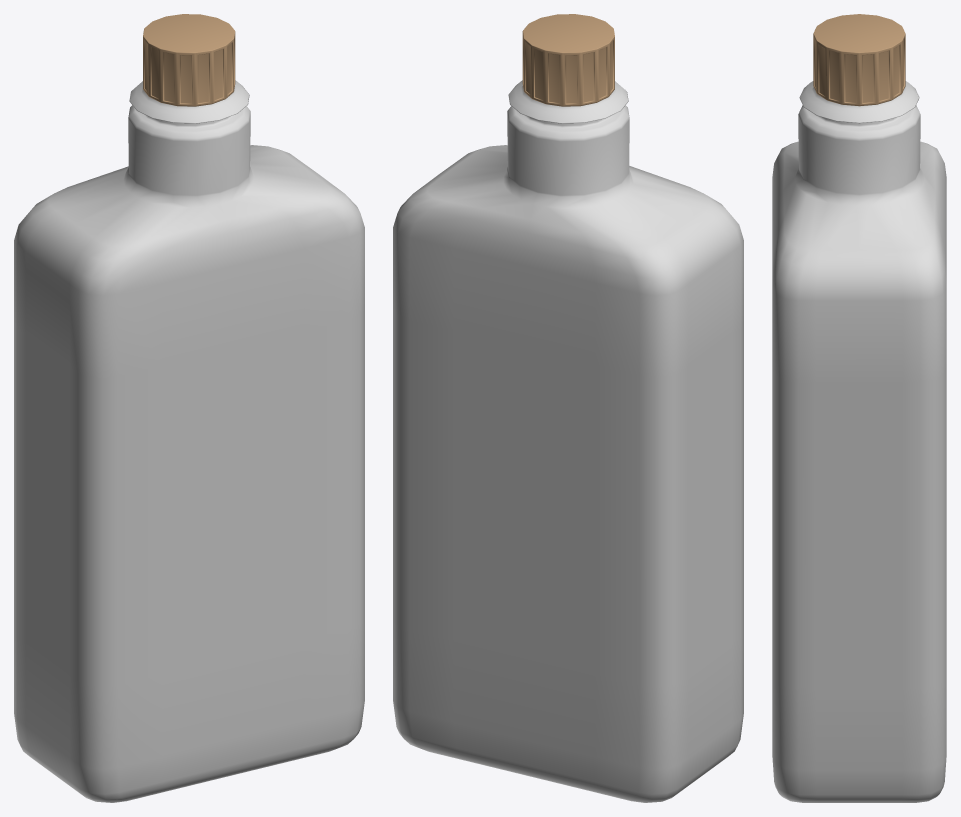
File: Kossu.fbx
3 renders of one model, left to right at view 1: azimuth 30°, elevation 25°; view 2: azimuth 150°, elevation 25°; view 3: azimuth 270°, elevation 25°, orthographic.
Visible parts, largest first — view 1: Kossu; view 2: Kossu; view 3: Kossu.
Boxes of the visible parts, x1=… form: Kossu: x1=14, y1=14, x2=364, y2=802; Kossu: x1=393, y1=14, x2=743, y2=802; Kossu: x1=772, y1=14, x2=946, y2=802.
Bounding box in the file's own units: 21.73 × 52.5 × 11.66.
